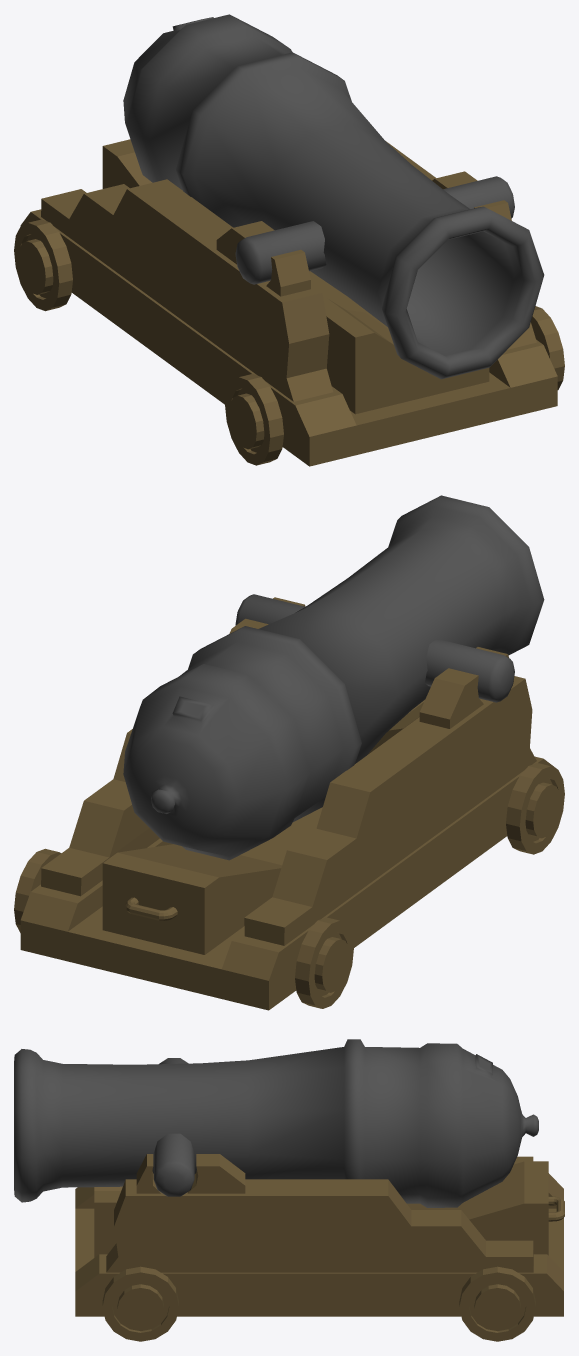
Rendered from Cannon.fbx.
3 views of the same model, one above another, from view 1: azimuth 30°, elevation 25°; view 2: azimuth 150°, elevation 25°; view 3: azimuth 270°, elevation 25° (orthographic). The views are drawn at different scales.
Parts seen in each view (by area): view 1: Base; view 2: Base; view 3: Base.
Part boxes in pixels (box(x1,y1,x2,y2)): Base: box(14, 14, 564, 466); Base: box(14, 495, 564, 1010); Base: box(14, 1039, 564, 1341).
Size of the model in its own units: 3.81 by 3.26 by 7.07.
